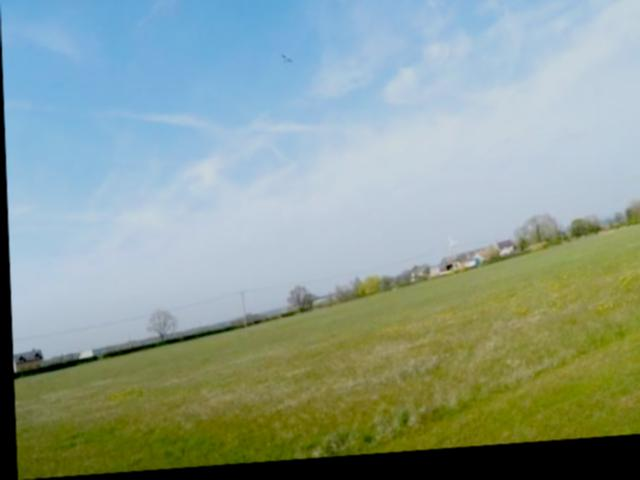iha: (281, 59, 291, 67)
